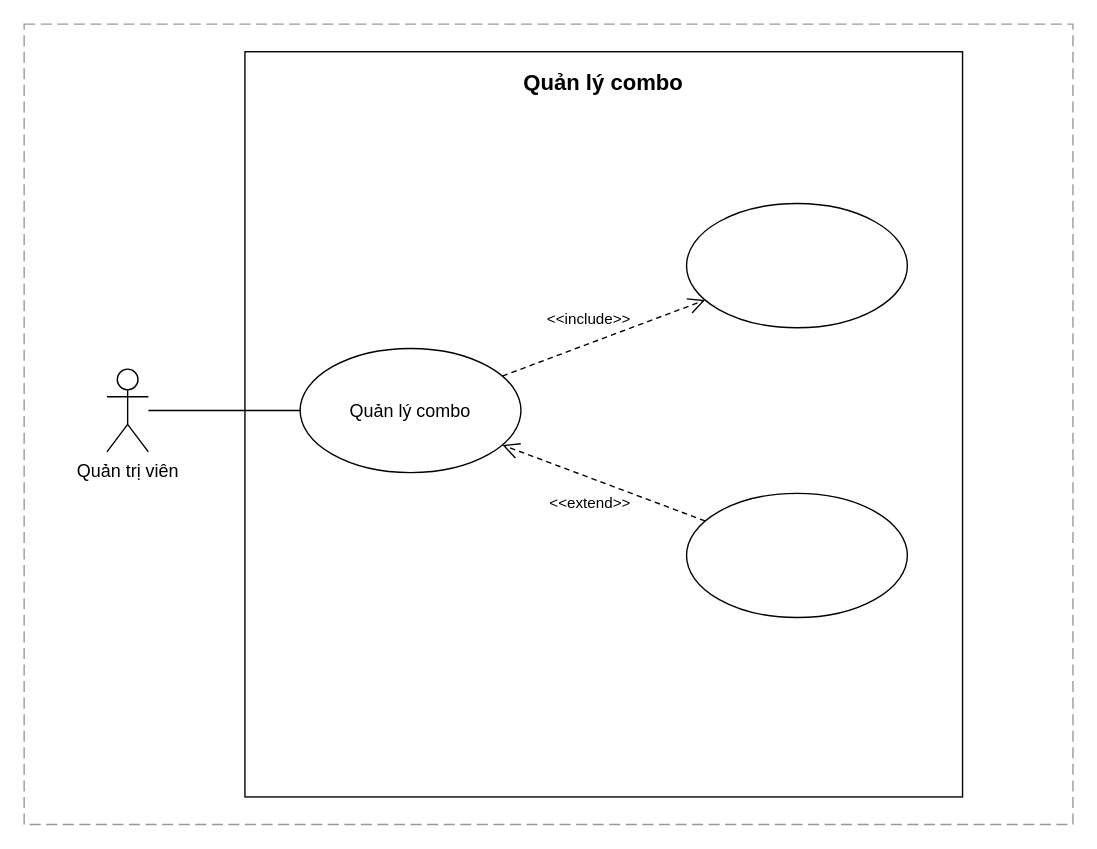
The diagram is 1097 pixels wide and 849 high, and some of its shapes have lost their labels. Each missing label, with the centre of its shape:
"Thêm, sửa, ẩn combo" goes at (796,555).
"Đăng nhập" goes at (796,265).
